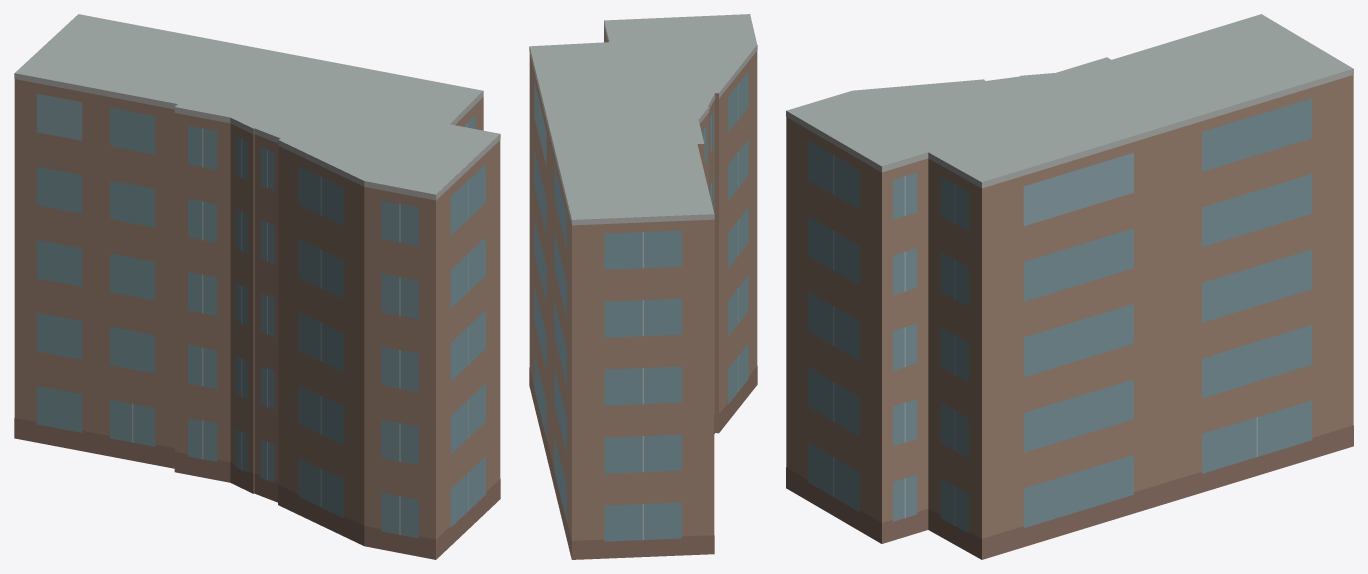
The model's file is survey-upis-32919579.glb.
3 renders of one model, left to right at view 1: azimuth 30°, elevation 25°; view 2: azimuth 150°, elevation 25°; view 3: azimuth 270°, elevation 25°, orthographic. The views are drawn at different scales.
Visible parts, largest first — view 1: survey-upis-32919579.tmp; view 2: survey-upis-32919579.tmp; view 3: survey-upis-32919579.tmp.
Boxes of the visible parts, x1=… form: survey-upis-32919579.tmp: x1=14, y1=14, x2=500, y2=559; survey-upis-32919579.tmp: x1=529, y1=14, x2=757, y2=559; survey-upis-32919579.tmp: x1=786, y1=14, x2=1353, y2=559.
Bounding box in the file's own units: 14.6 × 15.25 × 20.79.
